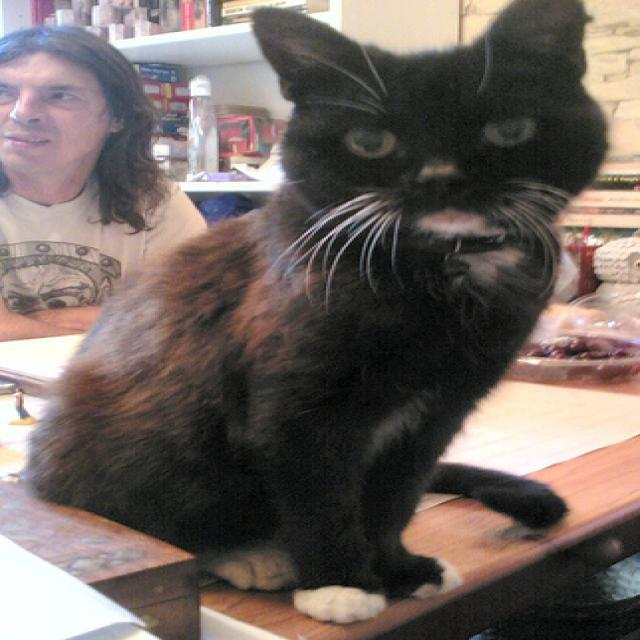cat: (21, 1, 609, 626)
